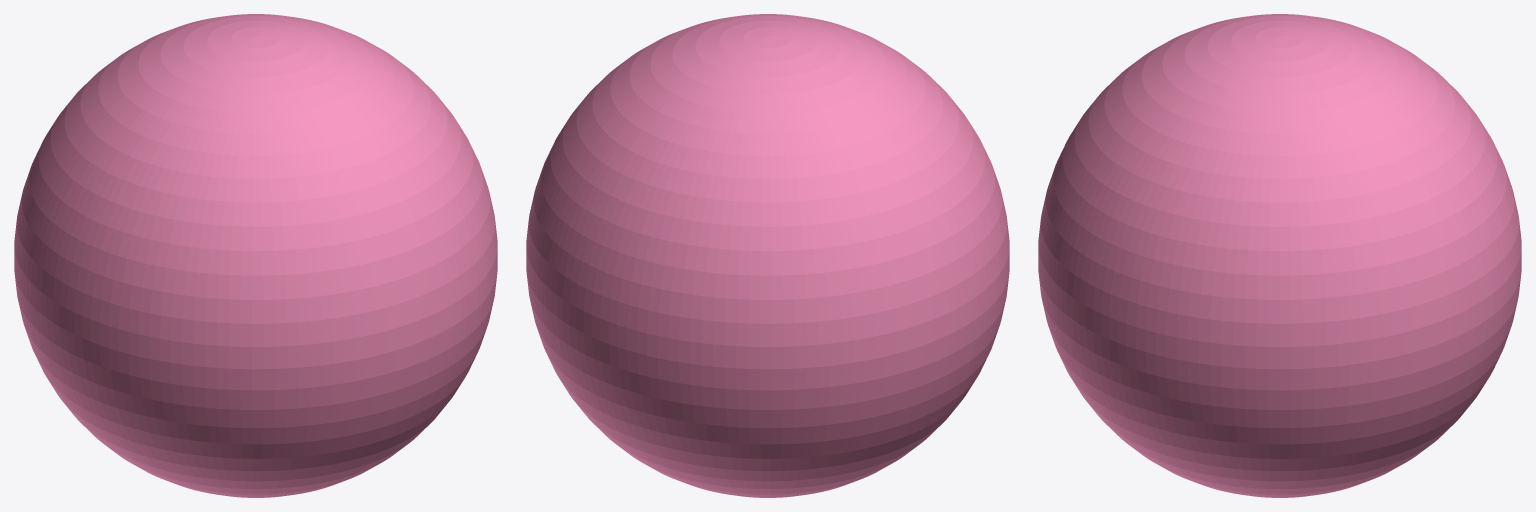
The model's file is ball_pink.glb.
3 views of the same model, side by side, from view 1: azimuth 30°, elevation 25°; view 2: azimuth 150°, elevation 25°; view 3: azimuth 270°, elevation 25° (orthographic).
Visible parts, largest first — view 1: geometry_0; view 2: geometry_0; view 3: geometry_0.
Part boxes in pixels (x1,y1,x2,y2): geometry_0: (14,14,497,497); geometry_0: (526,14,1009,497); geometry_0: (1038,14,1521,497).
Bounding box in the file's own units: 0.2197 × 0.22 × 0.2197.
